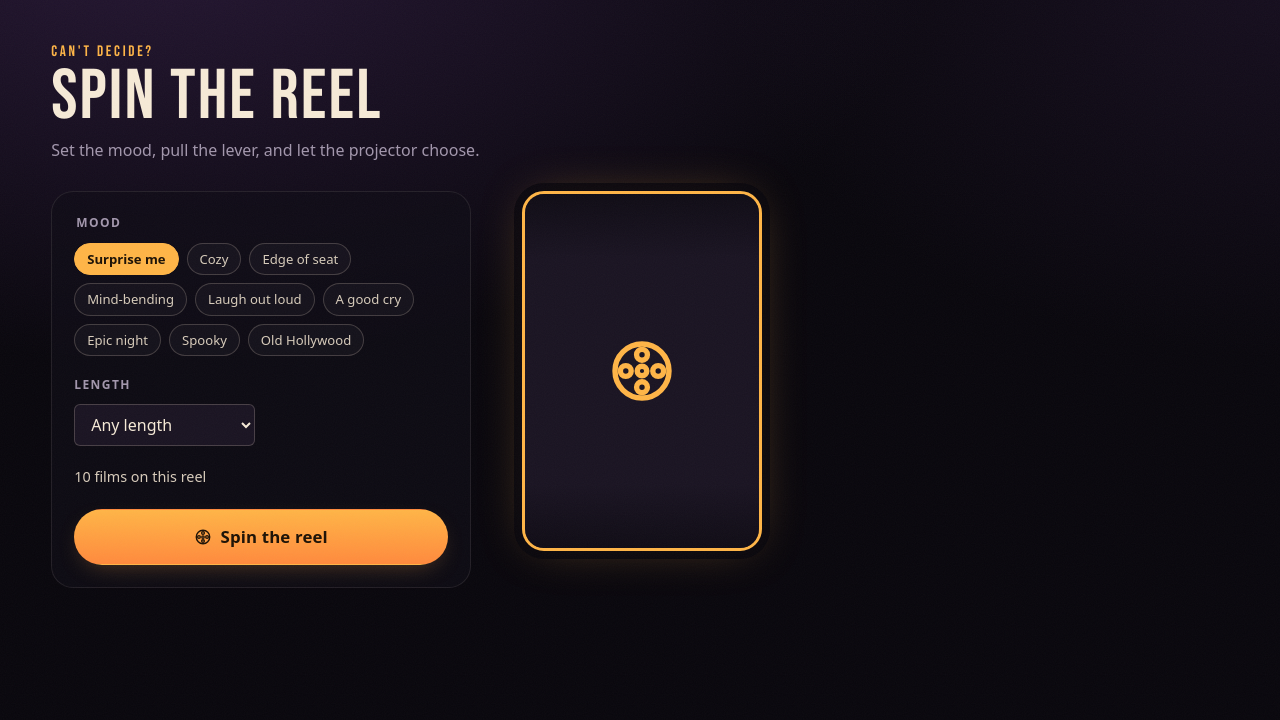
it: SpinPage › updates the pool as filters change and blocks impossible spins
Expected: the text "10 films on this reel" is shown, x1=74 y1=468 x2=206 y2=486
Click the radio button labelled "Laugh out loud": [255, 299] box x1=195 y1=283 x2=315 y2=316
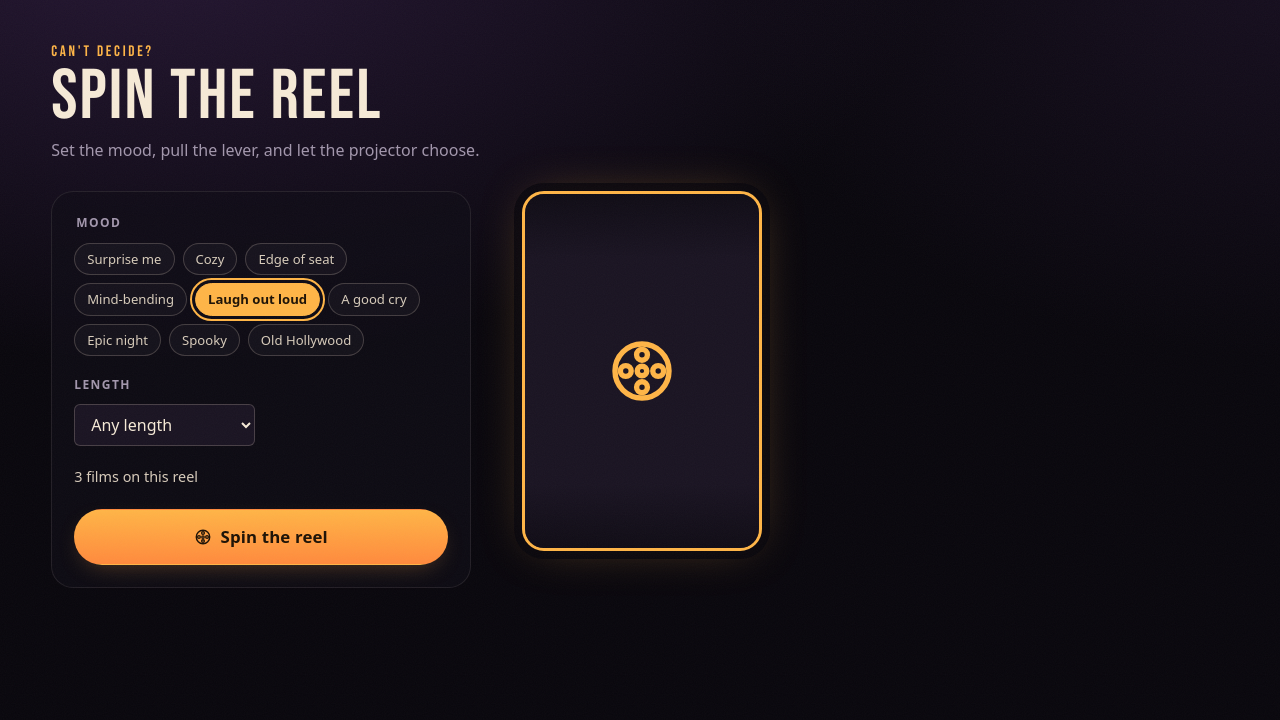
Expected: the text "3 films on this reel" is shown, x1=74 y1=468 x2=198 y2=486
Select "Under 1h 40m" in the dropdown labelled "Length": [165, 426] box x1=74 y1=404 x2=255 y2=446
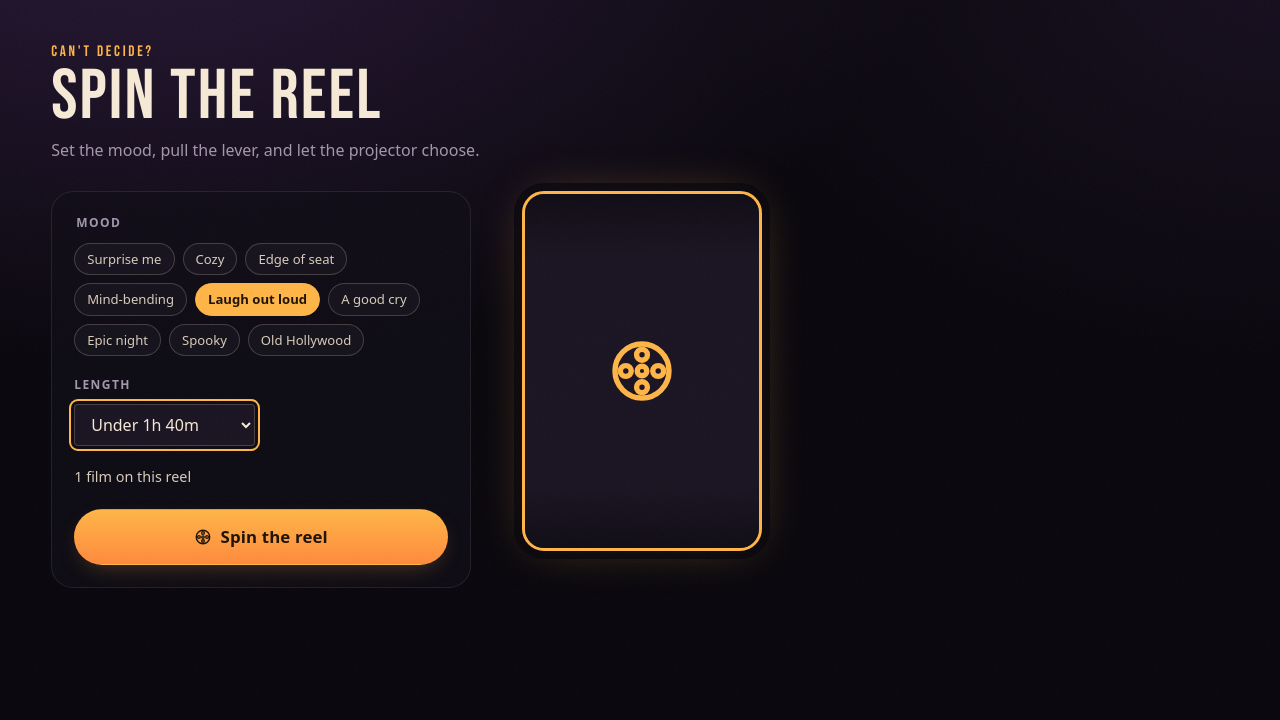
Expected: the text "1 film on this reel" is shown, x1=74 y1=468 x2=191 y2=486
Click the radio button labelled "Old Hollywood": [306, 340] box x1=248 y1=324 x2=364 y2=356
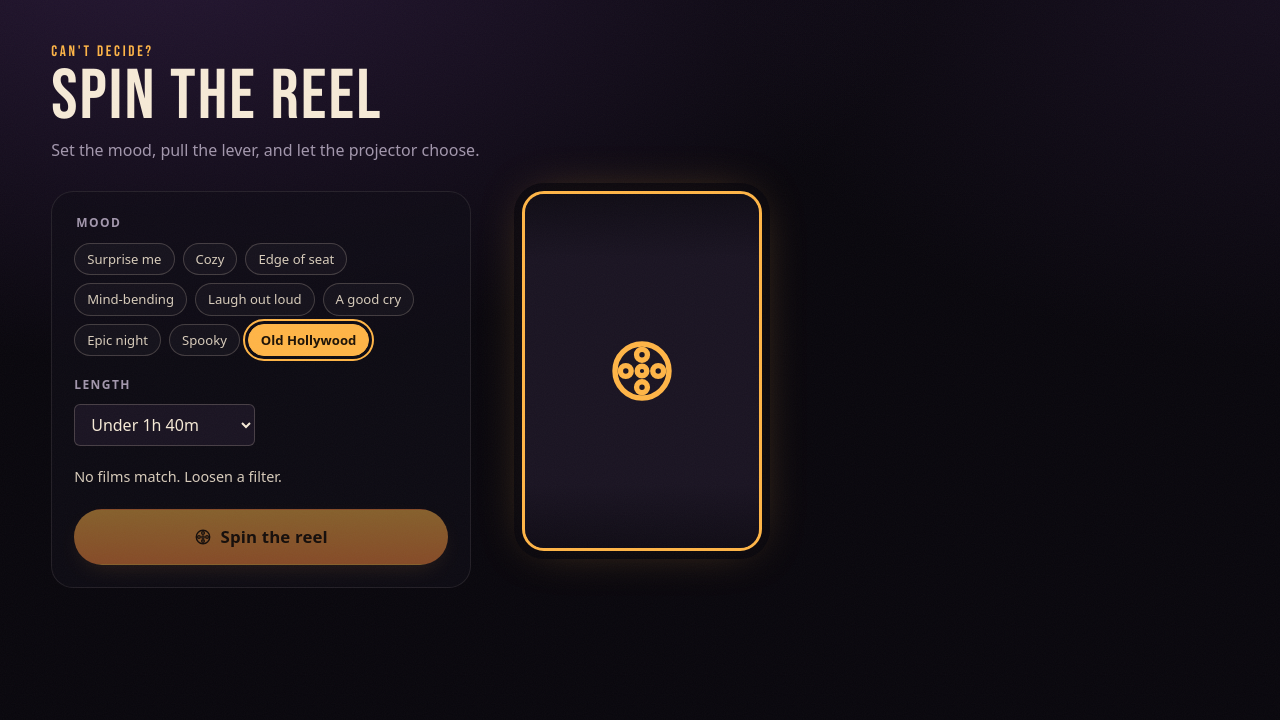
Expected: the text "No films match. Loosen a filter." is shown, x1=74 y1=468 x2=282 y2=486
Expected: the button "Spin the reel" is disabled, x1=74 y1=509 x2=448 y2=565
